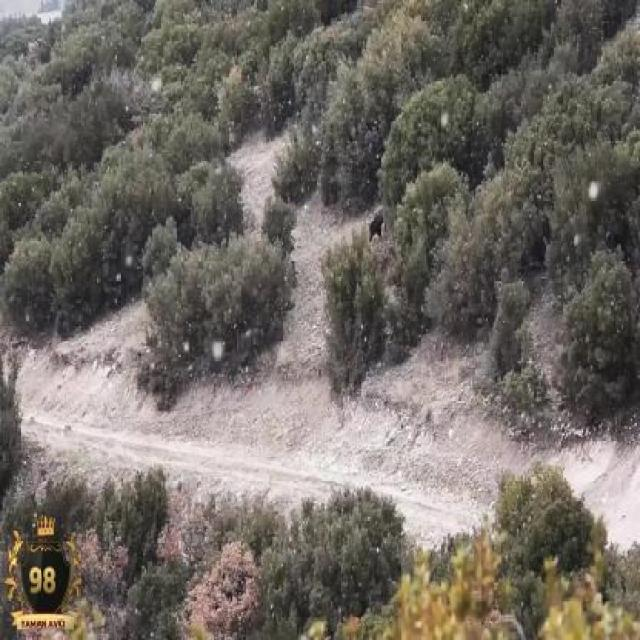pig: (363, 203, 389, 244)
